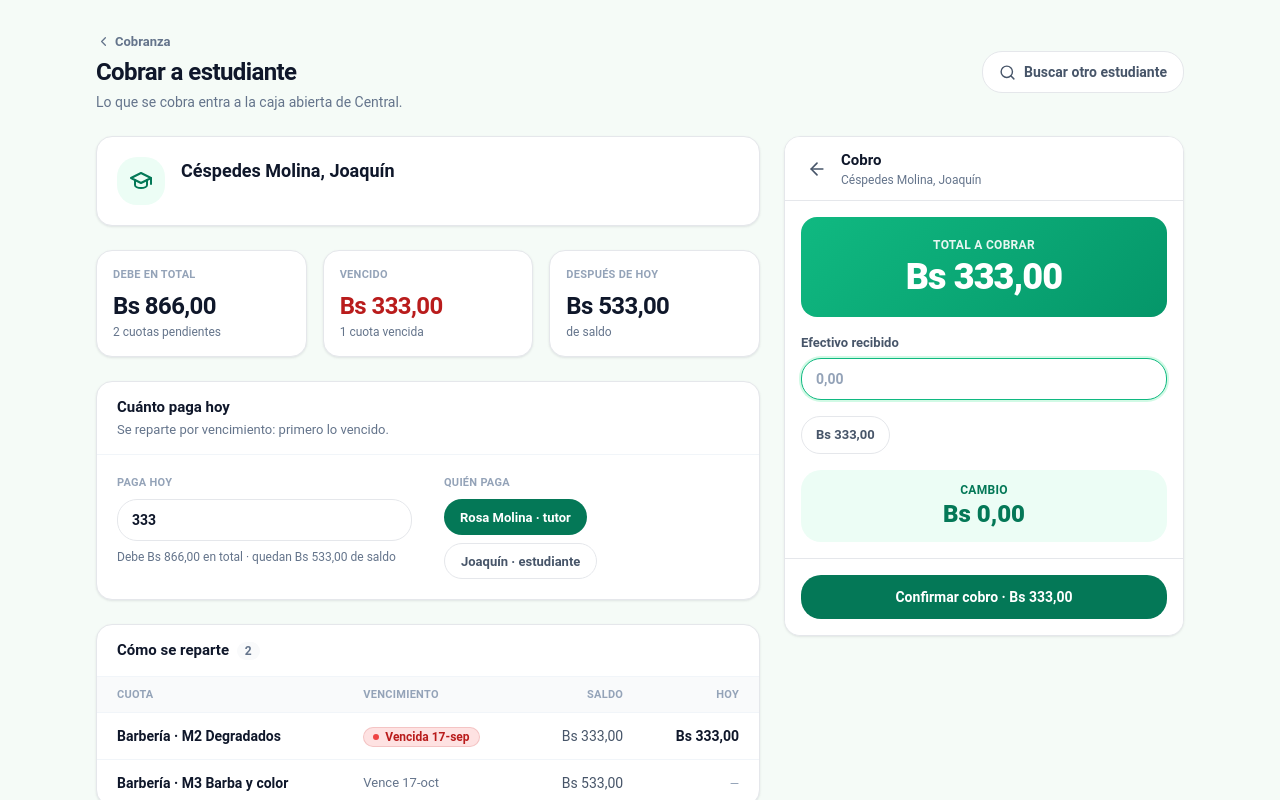
A1 · cobrar a estudiante › si otra caja cobró la cuota en el medio, trae el saldo de hoy y lo dice
Type "333" into the field labelled "Efectivo recibido" at (984, 379), box [801,358,1167,400]
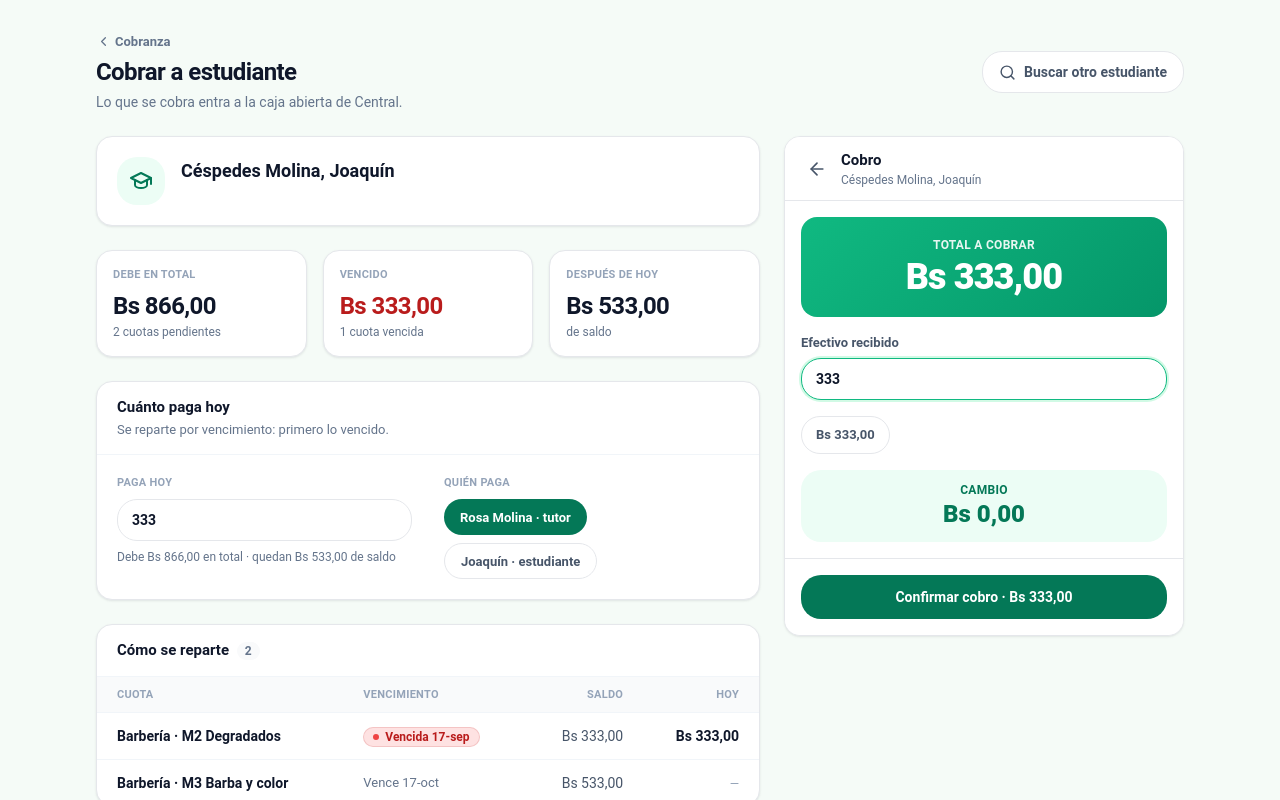
Click the button "Confirmar cobro · Bs 333,00" at (984, 597), box [801,575,1167,619]
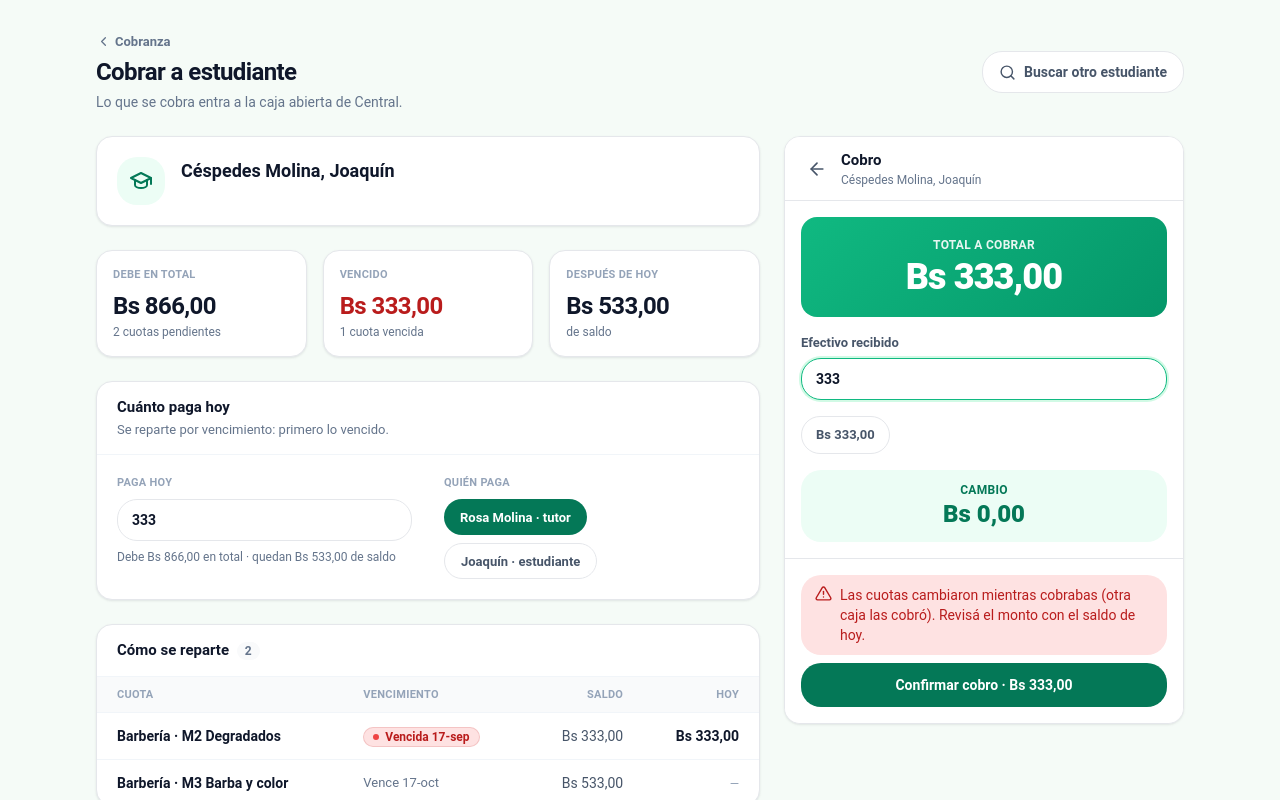
Check: the text "Las cuotas cambiaron mientras cobrabas" is shown, box [840,587,1135,643]
